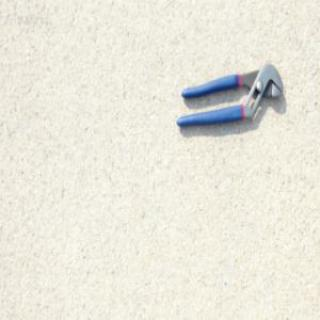Pliertrack_idkeyframe: (174, 63, 282, 129)
